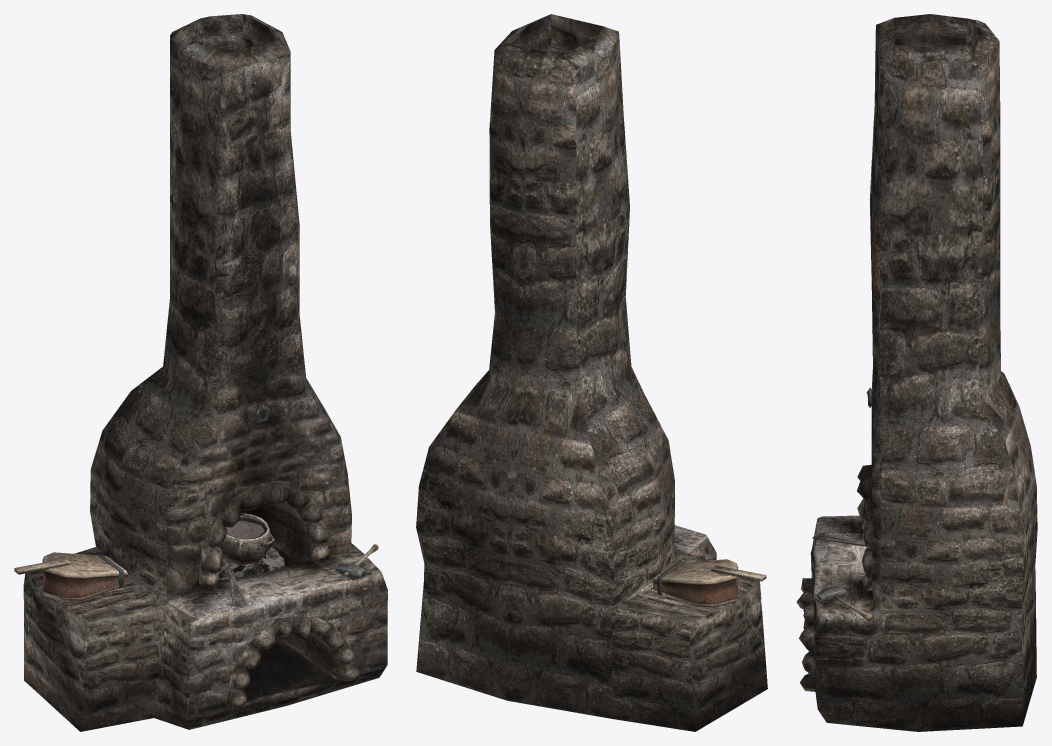
Rendered from forge.dae.
3 views of the same model, side by side, from view 1: azimuth 30°, elevation 25°; view 2: azimuth 150°, elevation 25°; view 3: azimuth 270°, elevation 25° (orthographic). The views are drawn at different scales.
Visible parts, largest first — view 1: Mesh; view 2: Mesh; view 3: Mesh.
Part boxes in pixels (bbox=[...]): Mesh: bbox=[14, 14, 387, 731]; Mesh: bbox=[416, 14, 767, 731]; Mesh: bbox=[796, 14, 1037, 731].
Size of the model in its own units: 2.51 by 1.58 by 4.68.
Materials: 4 (4 with a texture image).
